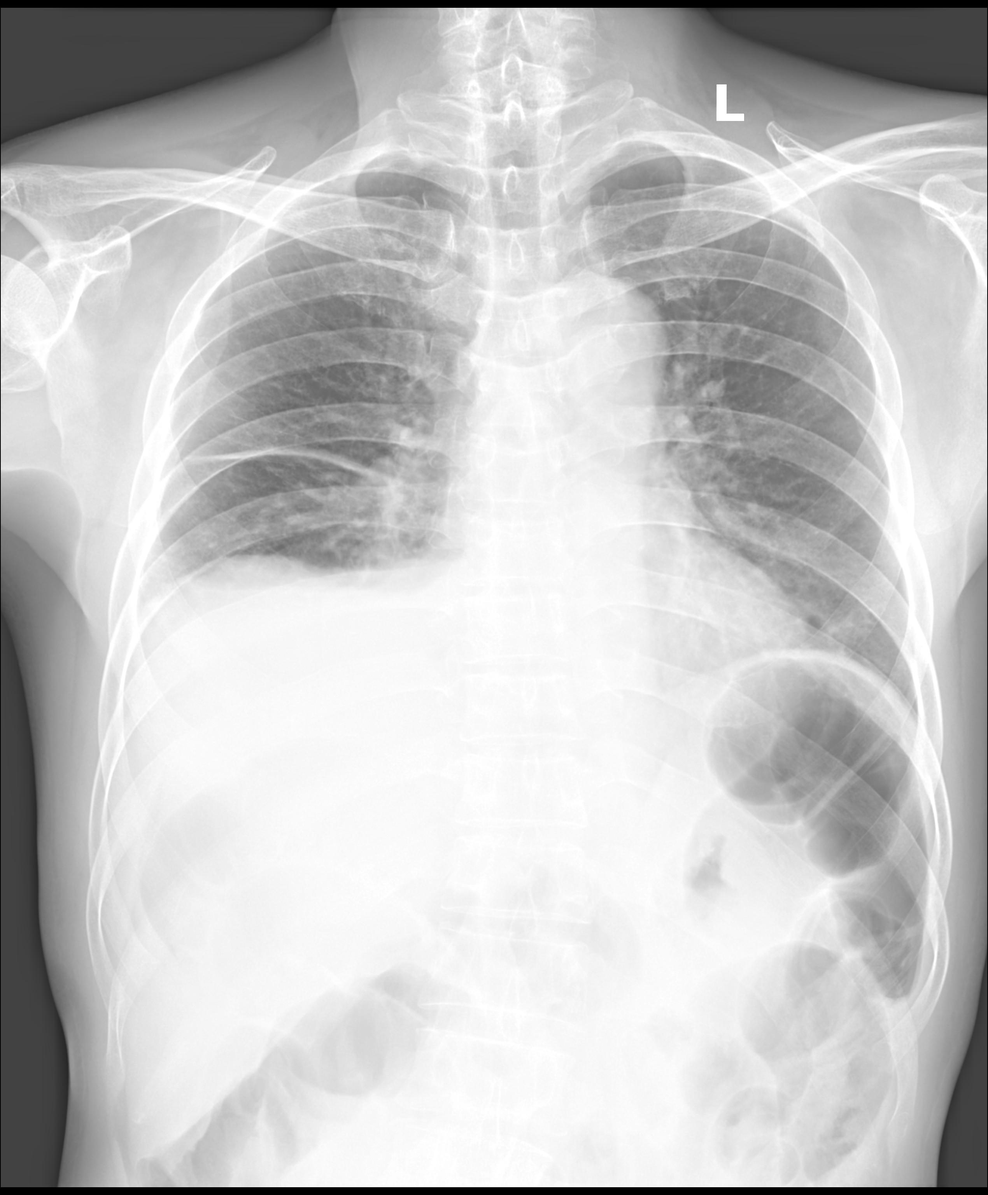Aortic enlargement: (525, 276, 667, 407)
Pulmonary fibrosis: (180, 446, 391, 489)
